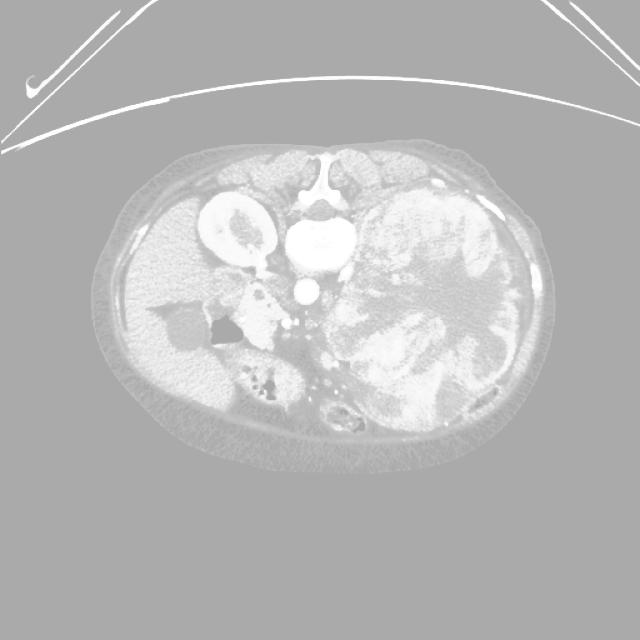TUMOR: (89, 181, 374, 385)
